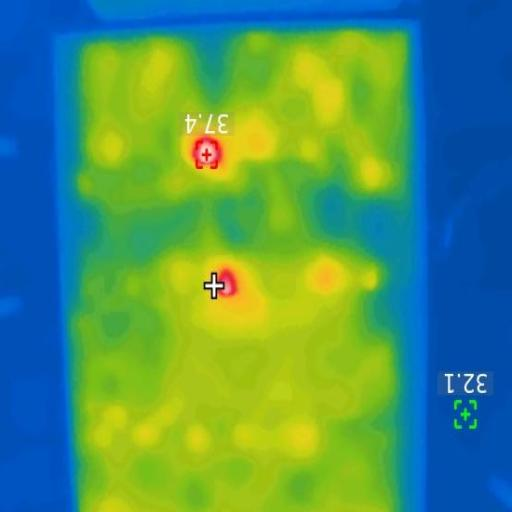hotspot: (189, 138, 225, 174), (216, 266, 239, 298)
